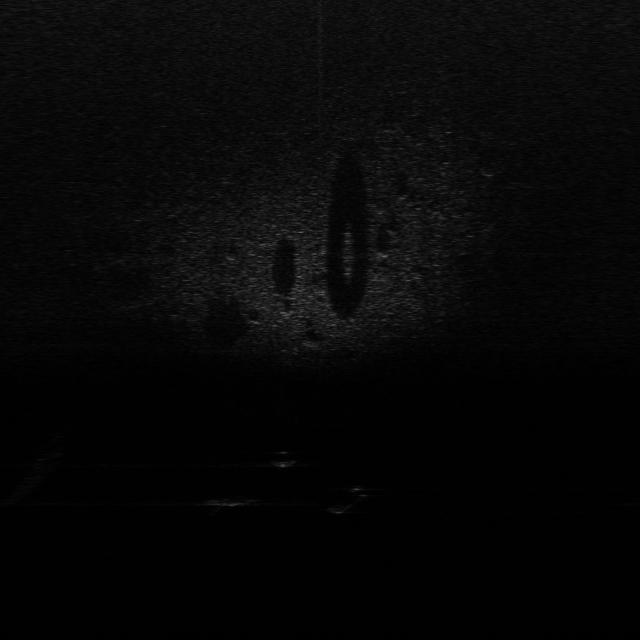ball: (267, 445, 301, 470)
square cage: (206, 487, 263, 514)
tyre: (331, 481, 382, 515)
